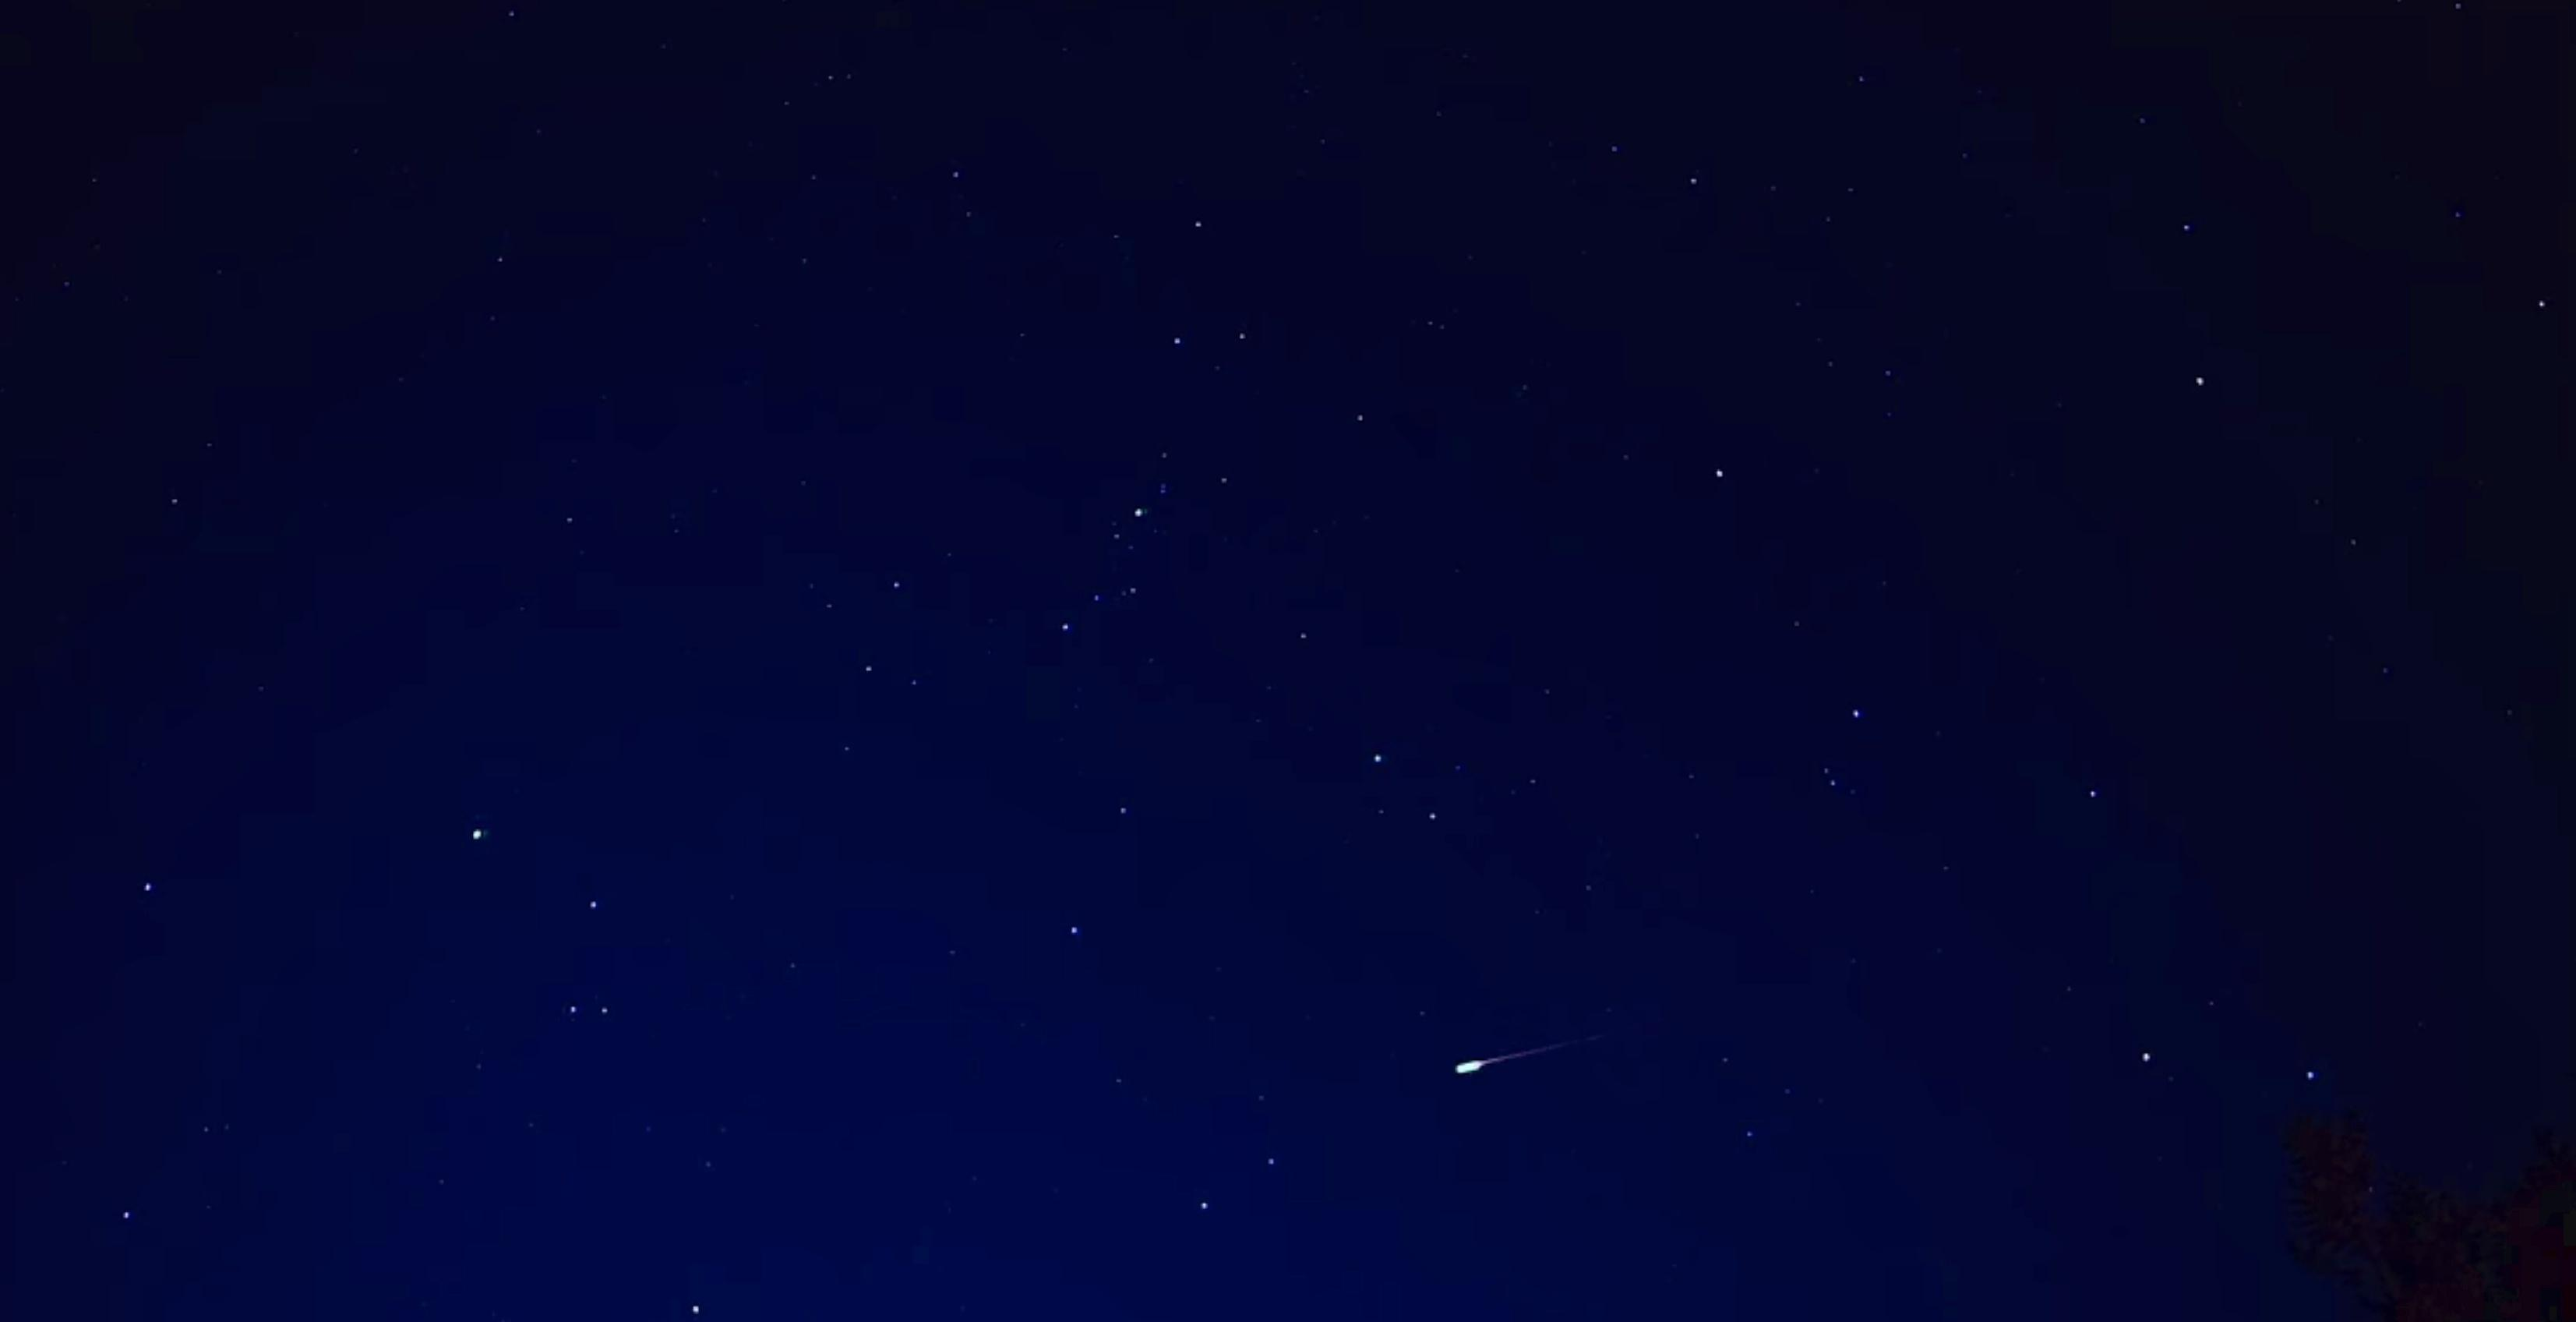meteorite: (1400, 1017, 1659, 1089)
